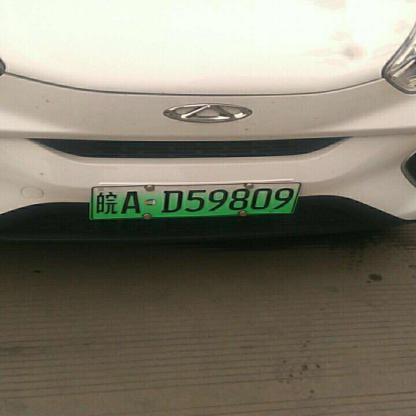lp: (92, 183, 300, 218)
